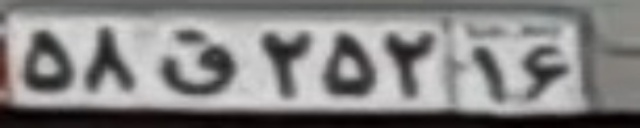1: (470, 43, 508, 102)
2: (380, 28, 435, 96), (263, 29, 310, 98)
5: (322, 28, 375, 96), (24, 28, 72, 88)
6: (519, 45, 571, 102)
8: (87, 26, 137, 91)
ghaf: (151, 26, 230, 93)
